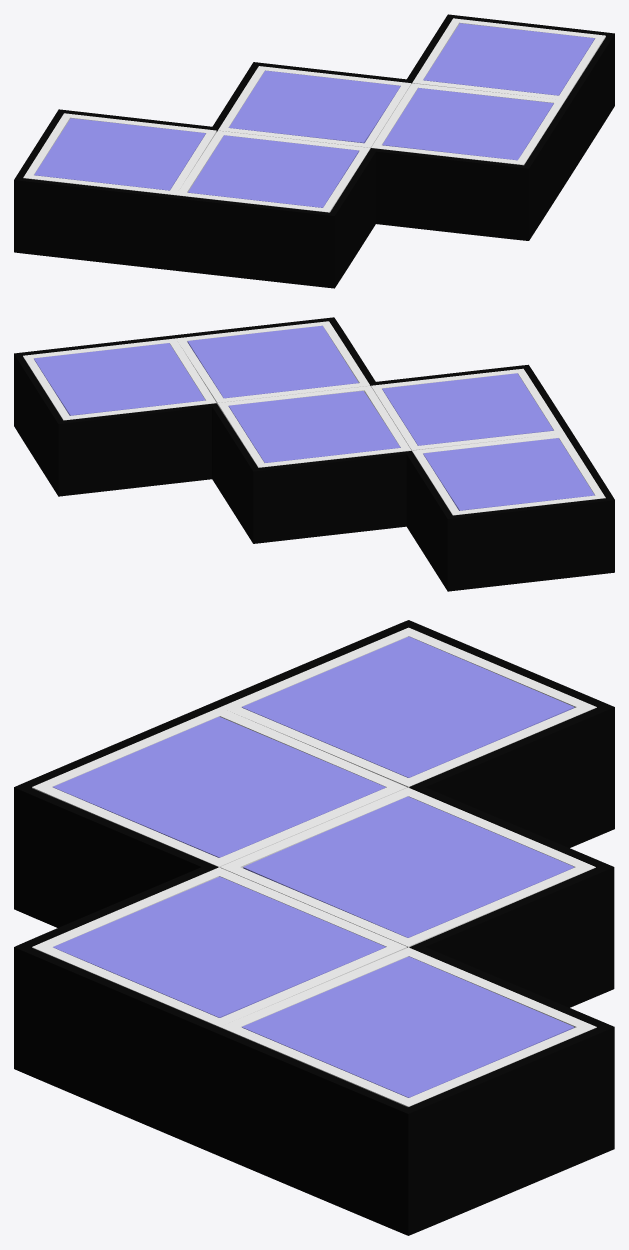
3 views of the same model, one above another, from view 1: azimuth 30°, elevation 25°; view 2: azimuth 150°, elevation 25°; view 3: azimuth 270°, elevation 25° (orthographic). The views are drawn at different scales.
Parts seen in each view (by area): view 1: imagetostl_mesh16, imagetostl_mesh5, imagetostl_mesh3, imagetostl_mesh7, imagetostl_mesh1, imagetostl_mesh9, imagetostl_mesh17, imagetostl_mesh13, imagetostl_mesh11, imagetostl_mesh15, imagetostl_mesh12, imagetostl_mesh10; view 2: imagetostl_mesh16, imagetostl_mesh5, imagetostl_mesh3, imagetostl_mesh7, imagetostl_mesh9, imagetostl_mesh1, imagetostl_mesh17, imagetostl_mesh11, imagetostl_mesh13, imagetostl_mesh15, imagetostl_mesh12, imagetostl_mesh10 (+1 smaller); view 3: imagetostl_mesh16, imagetostl_mesh3, imagetostl_mesh5, imagetostl_mesh1, imagetostl_mesh9, imagetostl_mesh7, imagetostl_mesh17, imagetostl_mesh13, imagetostl_mesh11, imagetostl_mesh15, imagetostl_mesh10, imagetostl_mesh12 (+1 smaller).
Part boxes in pixels (box(x1,y1,x2,y2)): imagetostl_mesh16: box(14, 18, 614, 288); imagetostl_mesh5: box(423, 23, 594, 95); imagetostl_mesh3: box(34, 118, 205, 190); imagetostl_mesh7: box(188, 135, 358, 207); imagetostl_mesh1: box(229, 70, 400, 142); imagetostl_mesh9: box(382, 88, 553, 160); imagetostl_mesh17: box(14, 14, 614, 215); imagetostl_mesh13: box(23, 113, 370, 212); imagetostl_mesh11: box(371, 18, 605, 164); imagetostl_mesh15: box(218, 66, 411, 147); imagetostl_mesh12: box(23, 117, 369, 212); imagetostl_mesh10: box(372, 22, 605, 165); imagetostl_mesh16: box(14, 321, 614, 591); imagetostl_mesh5: box(34, 343, 204, 415); imagetostl_mesh3: box(423, 438, 594, 510); imagetostl_mesh7: box(382, 373, 553, 445); imagetostl_mesh9: box(188, 325, 358, 398); imagetostl_mesh1: box(229, 391, 400, 462); imagetostl_mesh17: box(14, 317, 614, 518); imagetostl_mesh11: box(23, 321, 369, 420); imagetostl_mesh13: box(371, 368, 605, 515); imagetostl_mesh15: box(218, 386, 410, 467); imagetostl_mesh12: box(371, 373, 605, 515); imagetostl_mesh10: box(23, 325, 369, 420); imagetostl_mesh16: box(14, 627, 614, 1235); imagetostl_mesh3: box(242, 636, 573, 777); imagetostl_mesh5: box(242, 956, 573, 1097); imagetostl_mesh1: box(243, 796, 573, 937); imagetostl_mesh9: box(53, 876, 385, 1017); imagetostl_mesh7: box(53, 716, 385, 857); imagetostl_mesh17: box(14, 620, 614, 1113); imagetostl_mesh13: box(32, 627, 596, 866); imagetostl_mesh11: box(32, 867, 596, 1106); imagetostl_mesh15: box(220, 787, 595, 946); imagetostl_mesh10: box(32, 876, 596, 1106); imagetostl_mesh12: box(32, 636, 596, 867).
Size of the model in its own units: 342 by 39.37 by 176.
